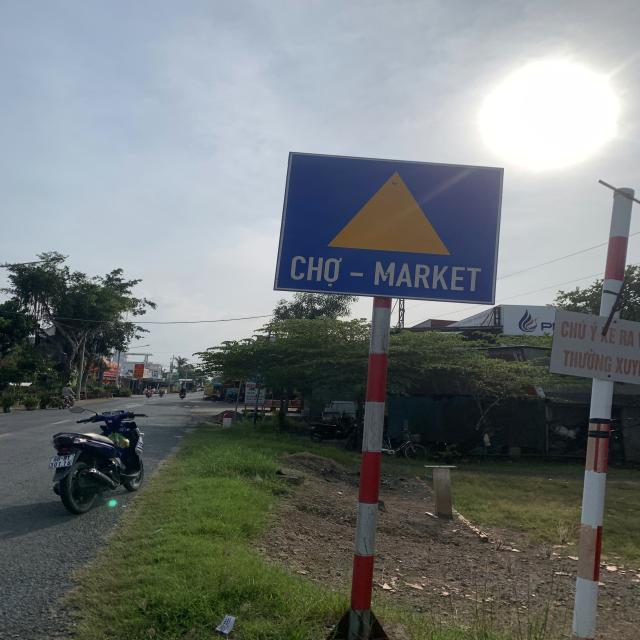Cho_Quay_Xe: (272, 151, 506, 303)
